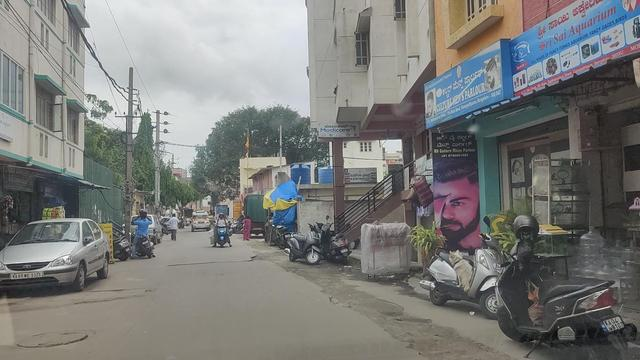LMV: (1, 222, 109, 294), (131, 208, 151, 264), (213, 209, 230, 250)
RoadDamages: (427, 334, 520, 360), (86, 299, 171, 325), (190, 258, 302, 275), (379, 308, 418, 339), (318, 273, 345, 291)
